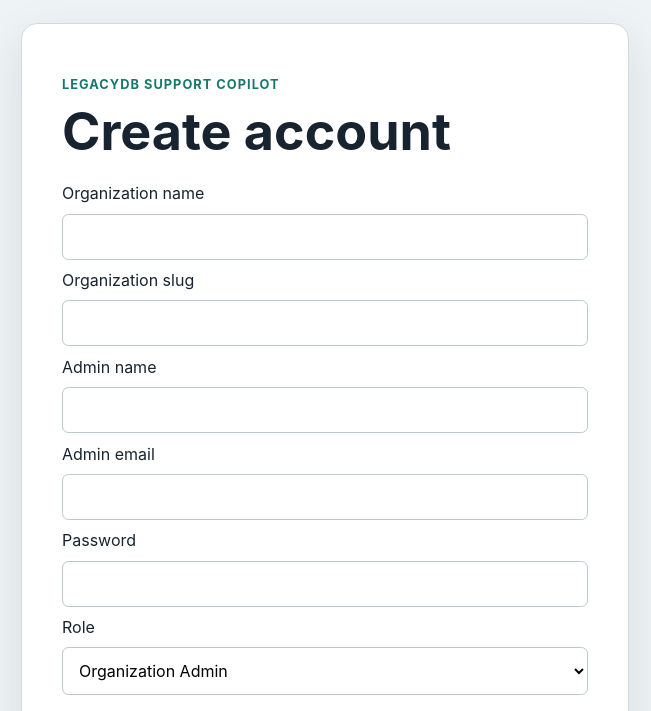
Test case: SignupPage › shows API errors without continuing signup
The width and height of the screenshot is (651, 711).
Type "Acme" into the field labelled "Organization name" at (325, 237), box [62, 214, 588, 260]
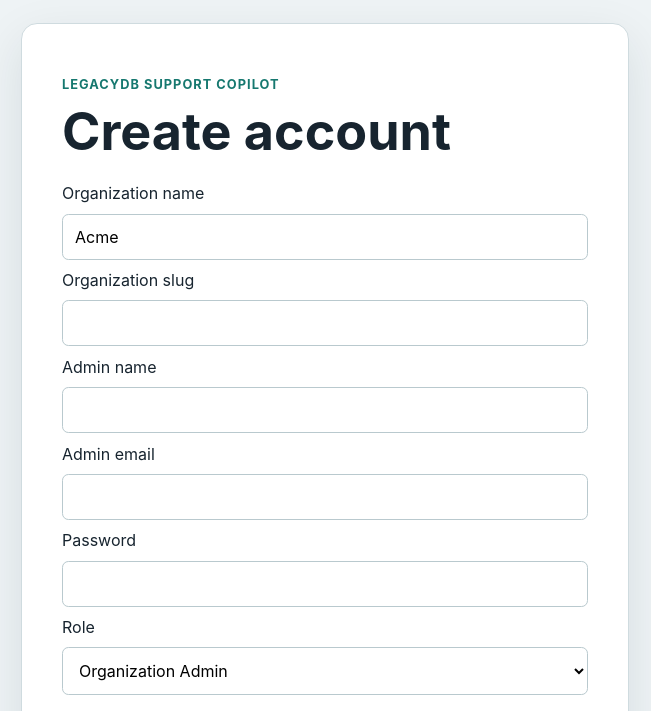
Type "acme" into the field labelled "Organization slug" at (325, 323), box [62, 300, 588, 346]
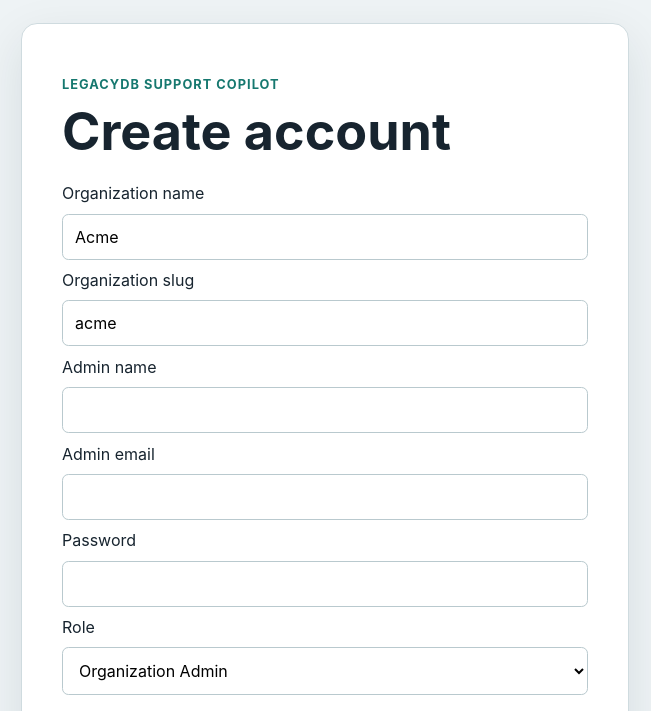
Type "Admin User" into the field labelled "Admin name" at (325, 410), box [62, 387, 588, 433]
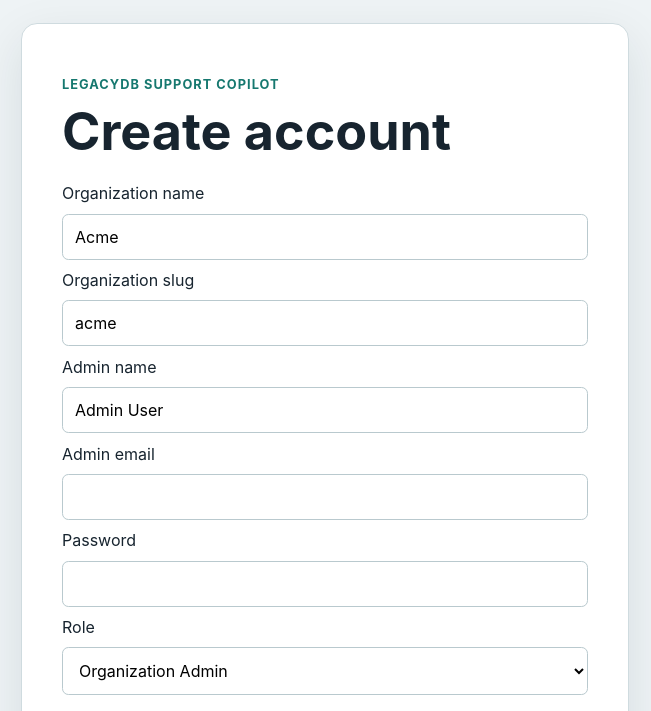
Type "admin@example.com" into the field labelled "Admin email" at (325, 497), box [62, 474, 588, 520]
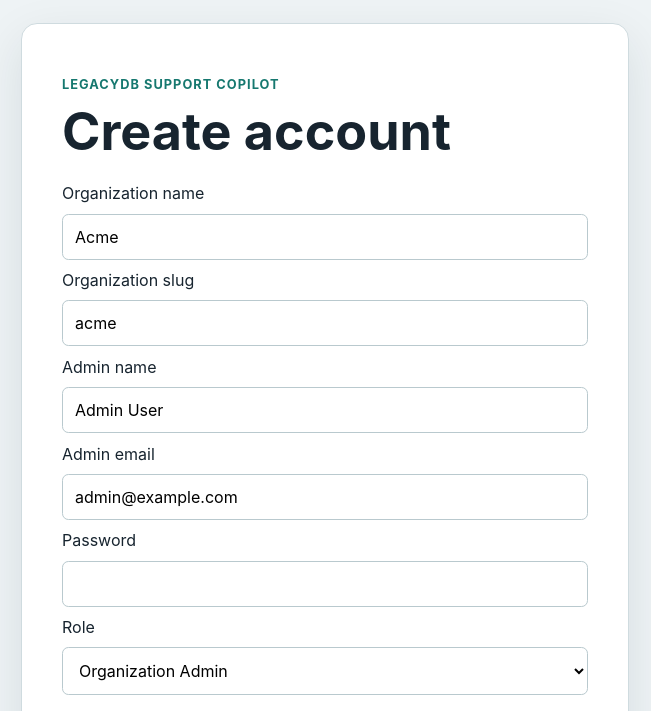
Type "StrongPass123!" into the password field labelled "Password" at (325, 584), box [62, 561, 588, 607]
(page scrolled)
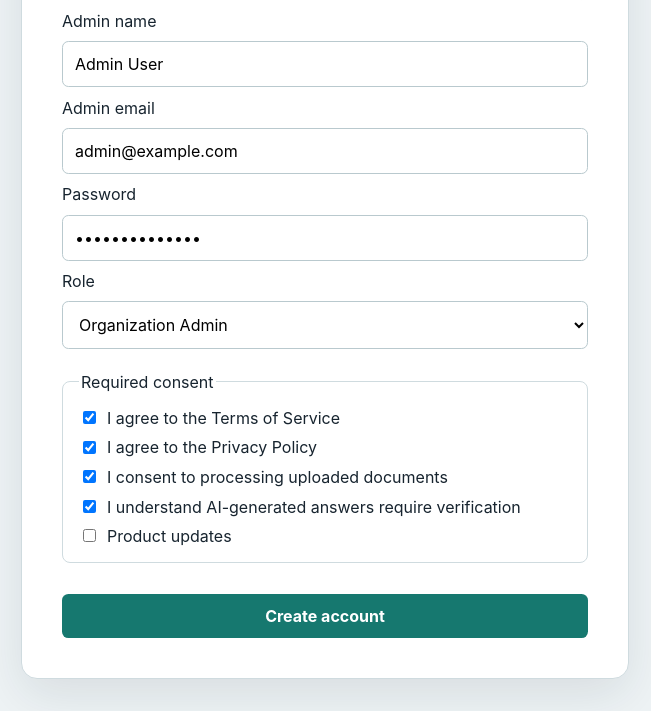
Click the button "Create account" at (325, 616), box [62, 594, 588, 638]
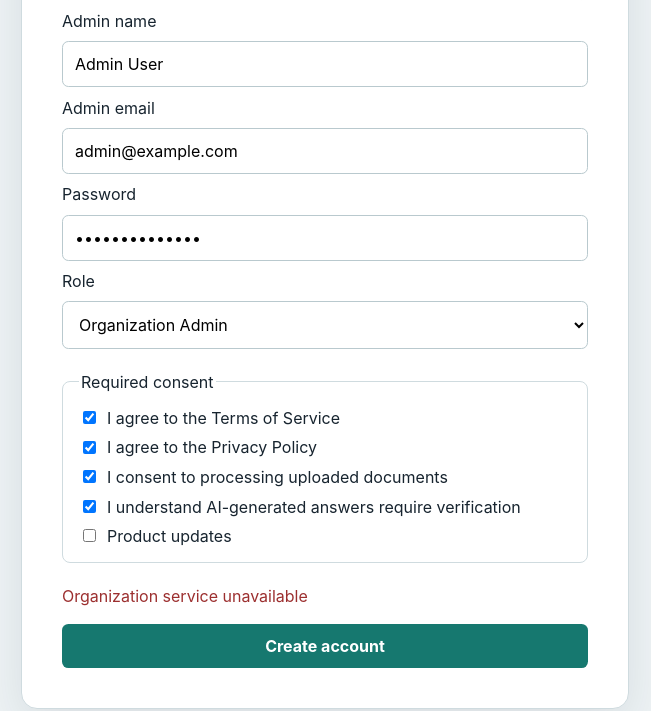
Expected: the message reads "Organization service unavailable", [62, 586, 308, 606]
